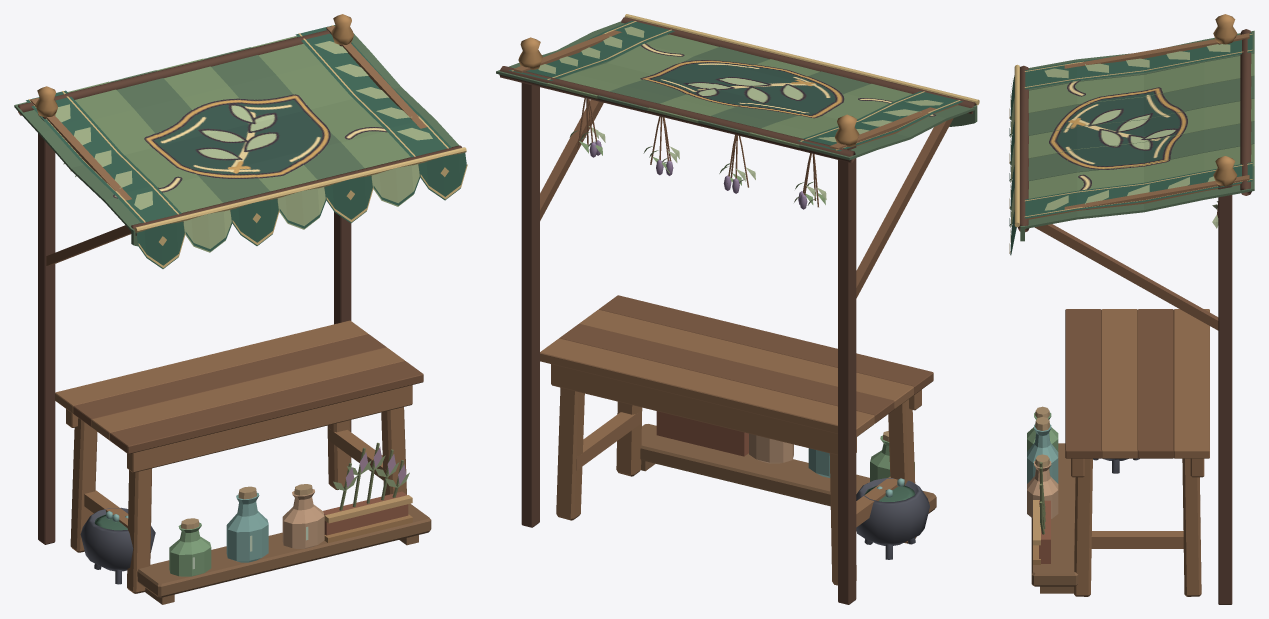
The model's file is stall_herbalist.glb.
The picture shows the model from 3 angles, left to right: view 1: azimuth 30°, elevation 25°; view 2: azimuth 150°, elevation 25°; view 3: azimuth 270°, elevation 25°; orthographic projection. The views are drawn at different scales.
Parts seen in each view (by area): view 1: stall_herbalist; view 2: stall_herbalist; view 3: stall_herbalist.
Boxes of the visible parts, x1,y1,x2,y2 form: stall_herbalist: (14, 14, 467, 604); stall_herbalist: (496, 14, 979, 604); stall_herbalist: (1009, 14, 1254, 604).
Bounding box in the file's own units: 1.9 × 2.5 × 1.24.
15 materials, 1 textured.
